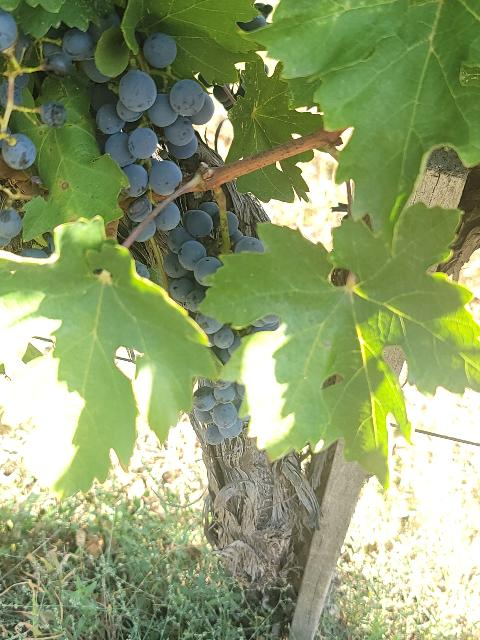grapes: (42, 14, 212, 229), (164, 202, 243, 364), (192, 378, 249, 445)
